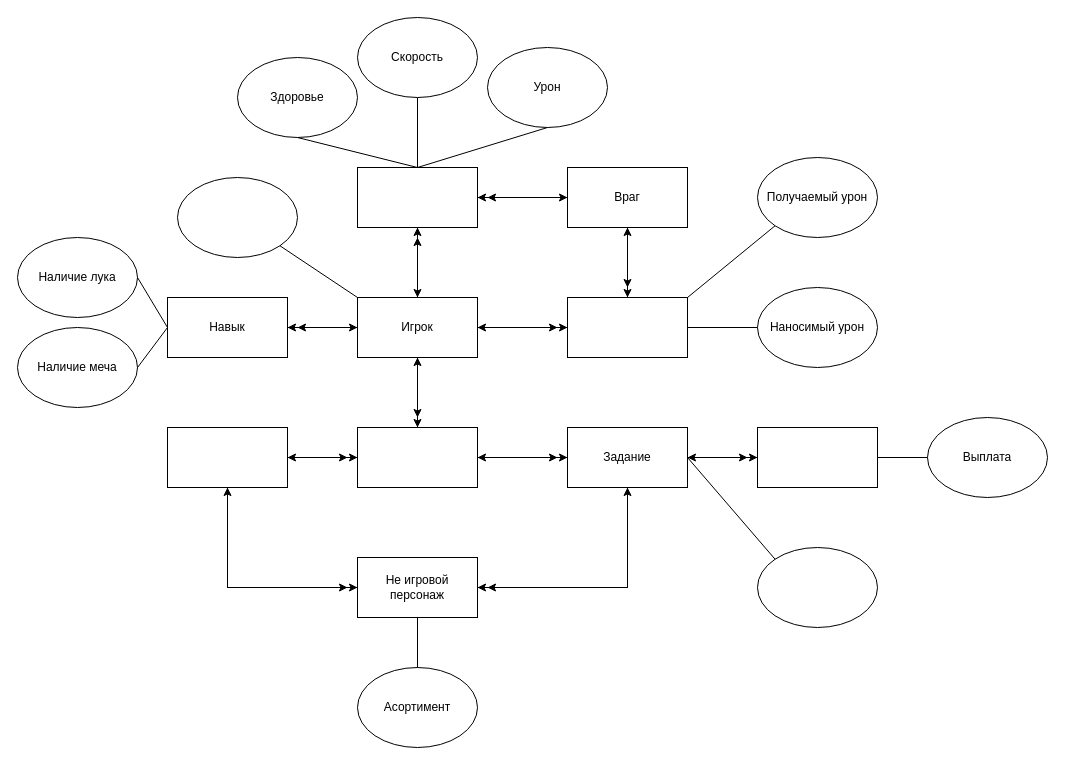
Image size: 1065x765. Some labels were removed from this diagram. Each missing label, with the centre of its shape:
"Бой" goes at (627,327).
"Взаимодейстсовать" goes at (417,457).
"Золото" goes at (237,217).
"Награда" goes at (817,457).
"Суть" goes at (817,587).
"Торговать" goes at (227,457).
"Характеристика" goes at (417,197).
